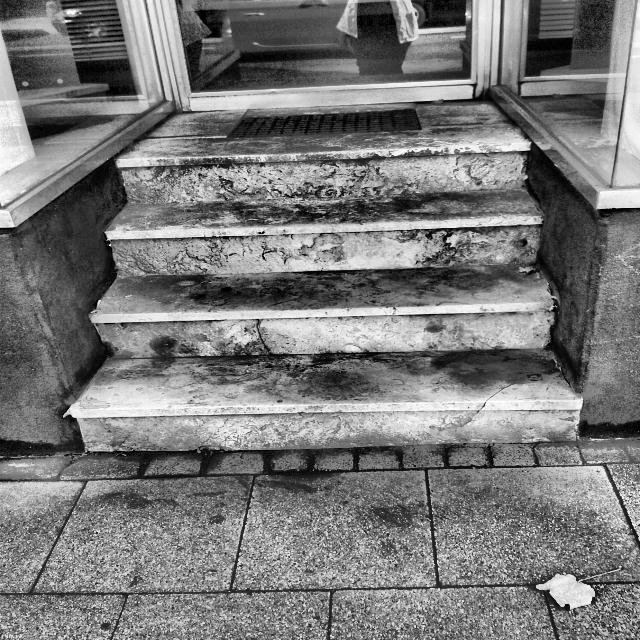escada: (75, 143, 582, 450)
